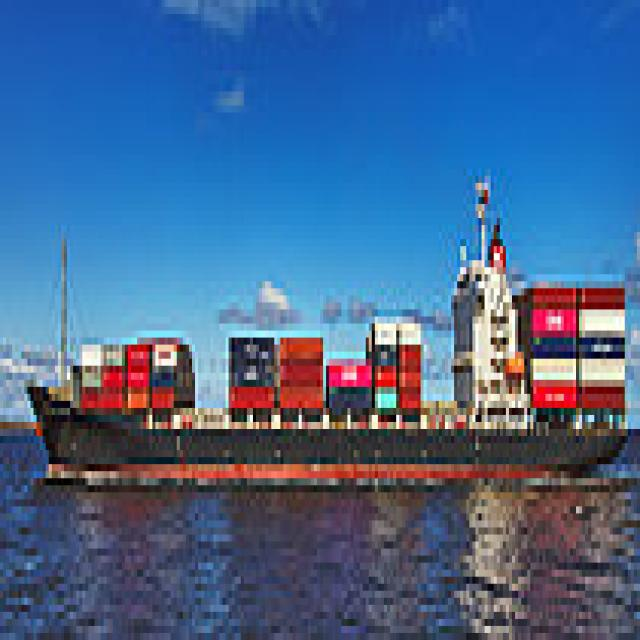Cargo: (21, 162, 628, 485)
